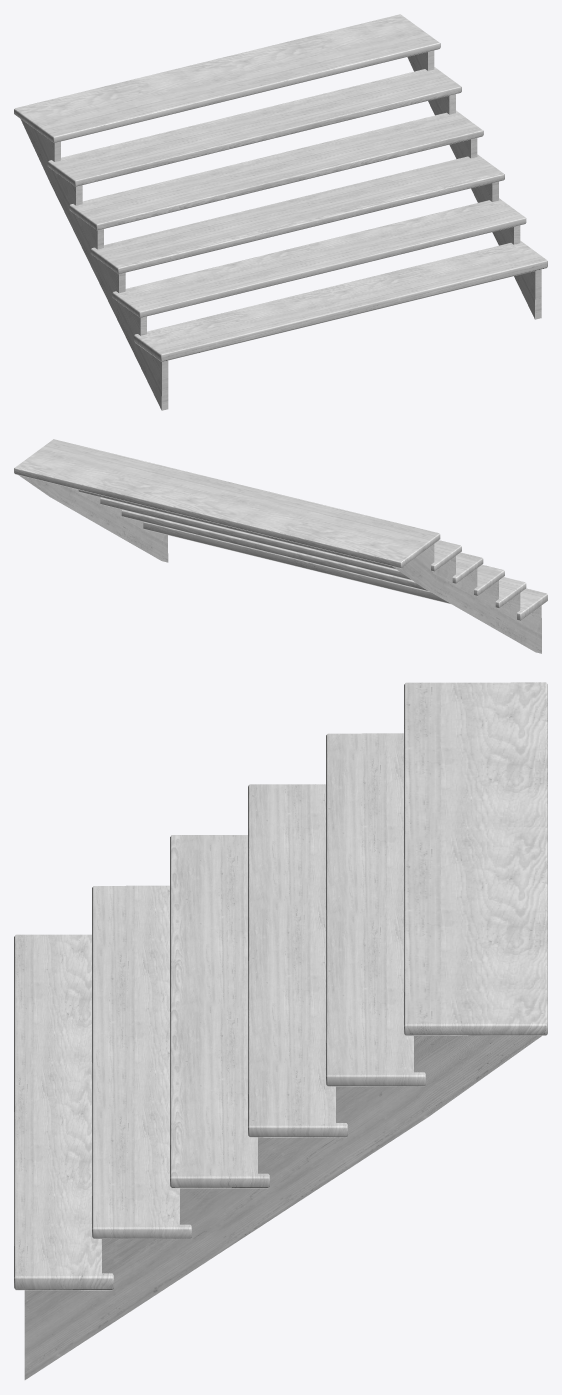
File: Terrace_Stairs_A1.fbx
3 renders of one model, top to bottom at view 1: azimuth 30°, elevation 25°; view 2: azimuth 150°, elevation 25°; view 3: azimuth 270°, elevation 25°, orthographic. The views are drawn at different scales.
Parts seen in each view (by area): view 1: Terrace_Stairs_A1; view 2: Terrace_Stairs_A1; view 3: Terrace_Stairs_A1.
Boxes of the visible parts, x1,y1,x2,y2 form: Terrace_Stairs_A1: (14, 14, 547, 410); Terrace_Stairs_A1: (14, 439, 547, 653); Terrace_Stairs_A1: (14, 682, 547, 1379).
Size of the model in its own units: 202 by 98.31 by 132.
